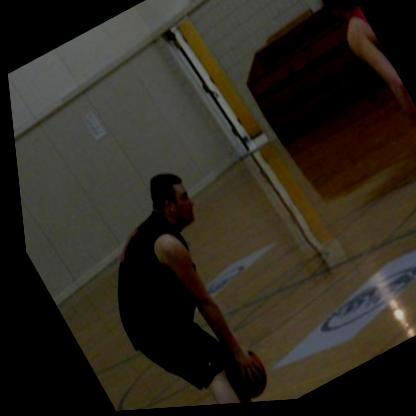basketball: (205, 339, 267, 407)
